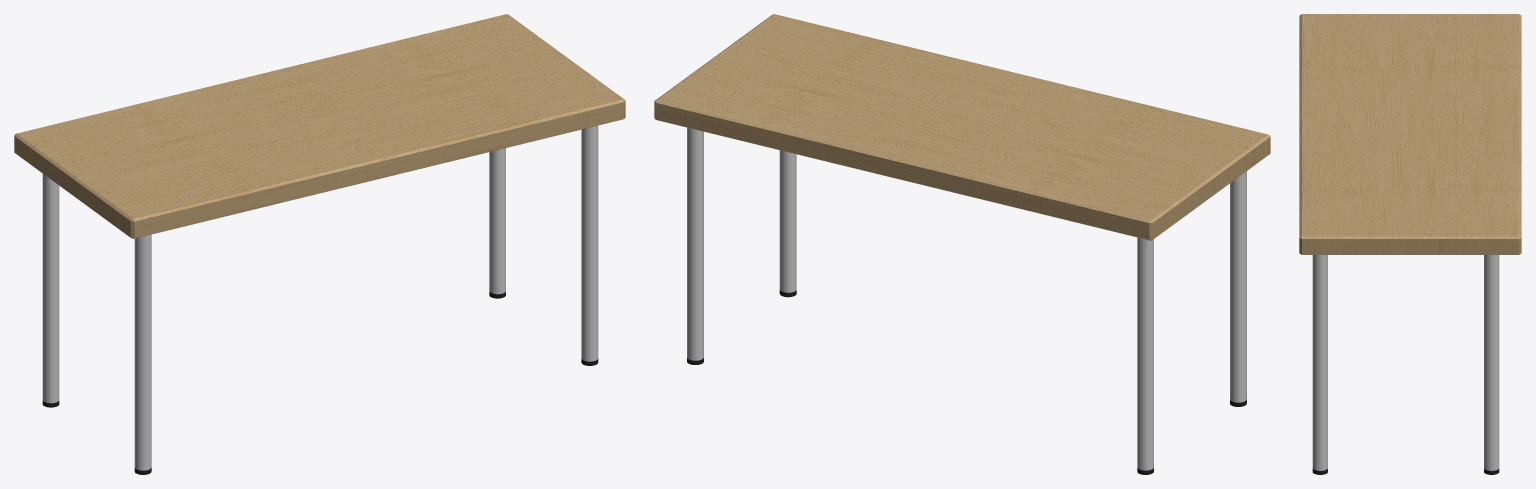
Rendered from Desk Apartment 2 NEW.fbx.
The picture shows the model from 3 angles, left to right: view 1: azimuth 30°, elevation 25°; view 2: azimuth 150°, elevation 25°; view 3: azimuth 270°, elevation 25°; orthographic projection. The views are drawn at different scales.
Parts seen in each view (by area): view 1: Desk, white part of leg, white part of leg.001, white part of leg.003, white part of leg.002; view 2: Desk, white part of leg.003, white part of leg.002, white part of leg, white part of leg.001; view 3: Desk, white part of leg.002, white part of leg.001.
Boxes of the visible parts, <box> form: Desk: <box>14,14,625,238</box>; white part of leg: <box>134,234,151,470</box>; white part of leg.001: <box>581,125,598,361</box>; white part of leg.003: <box>42,174,59,403</box>; white part of leg.002: <box>489,148,505,294</box>; Desk: <box>654,14,1270,240</box>; white part of leg.003: <box>1137,237,1153,470</box>; white part of leg.002: <box>687,127,703,360</box>; white part of leg: <box>1230,171,1246,402</box>; white part of leg.001: <box>779,150,796,292</box>; Desk: <box>1299,14,1521,254</box>; white part of leg.002: <box>1484,255,1499,470</box>; white part of leg.001: <box>1312,255,1327,470</box>.
Bounding box in the file's own units: 194 × 99.07 × 81.02.
